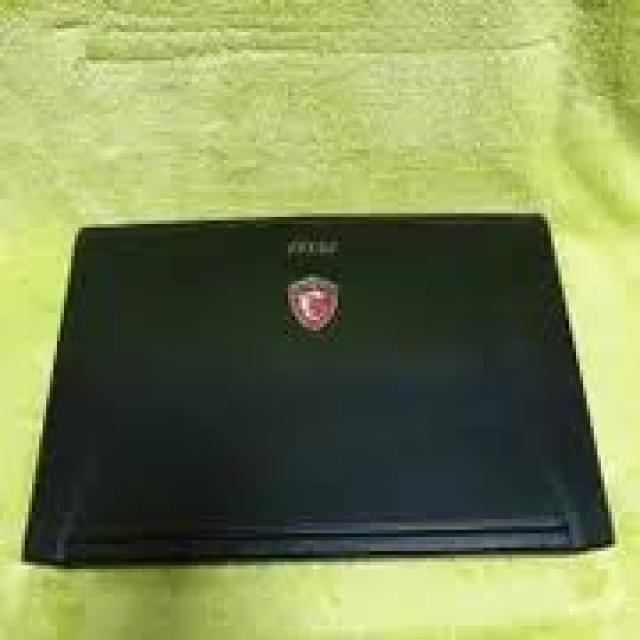laptop: (18, 210, 615, 565)
